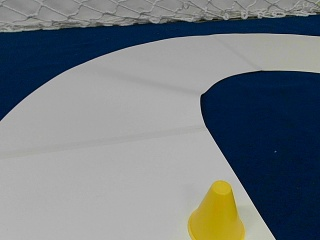cone: (187, 182, 243, 238)
